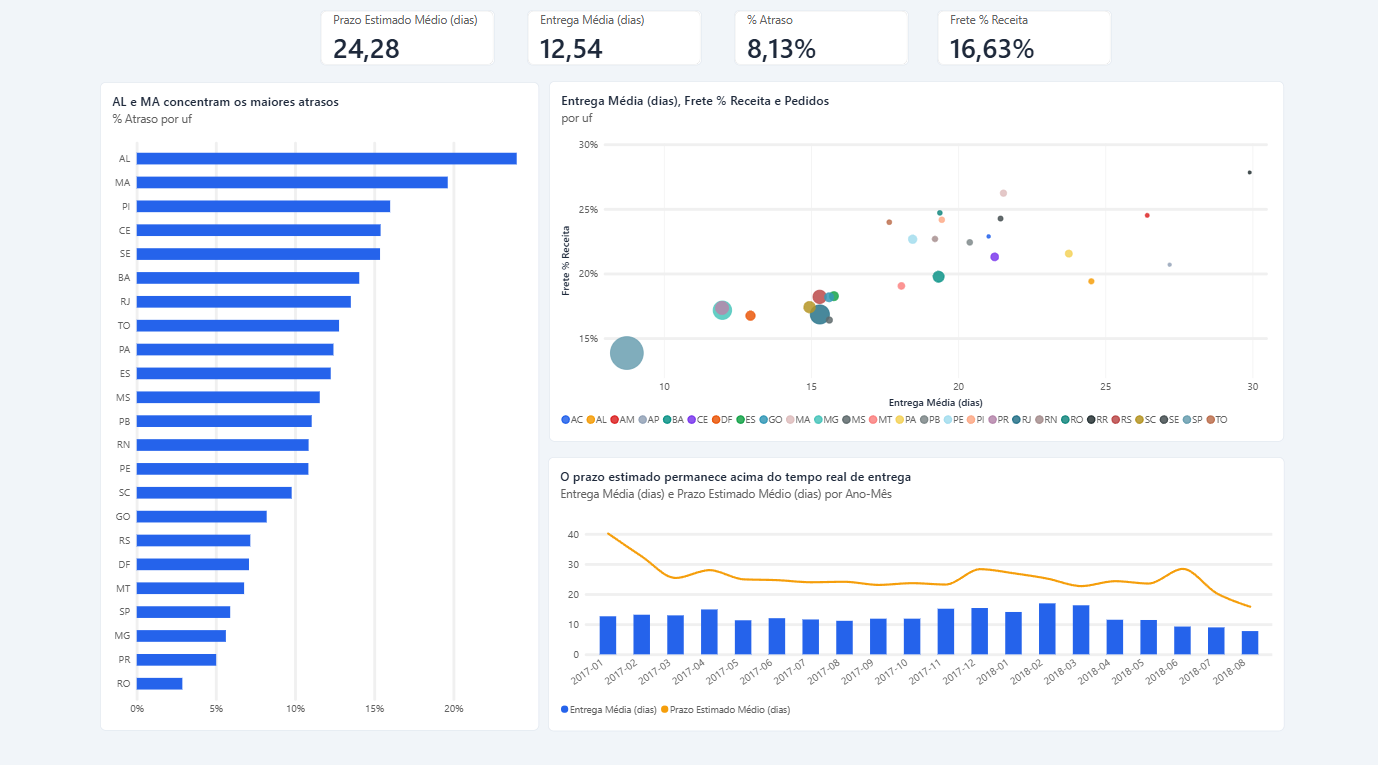

What the dashboard file says about the page in this screenshot:
{"tool":"powerbi","page":{"name":"LOGÍSTICA","canvas":[1920,1080],"ordinal":1},"visuals":[{"type":"cardVisual","fields":{"Data":["_Medidas.Entrega Média (dias)"]},"box":[735.7,22.9,242.9,77.1],"z":0},{"type":"cardVisual","fields":{"Data":["_Medidas.Prazo Médio"]},"box":[448.6,22.9,242.9,77.1],"z":1000},{"type":"cardVisual","fields":{"Data":["_Medidas.% Pedidos Atrasados"]},"box":[1024.3,22.9,242.9,77.1],"z":2000},{"type":"cardVisual","fields":{"Data":["_Medidas.Frete % Receita"]},"box":[1305.7,22.9,242.9,77.1],"z":3000},{"type":"barChart","title":"AL e MA concentram os maiores atrasos","fields":{"Category":["dim_uf.uf"],"Y":["_Medidas.% Pedidos Atrasados"]},"box":[142.9,122.9,610,901.4],"z":4000},{"type":"scatterChart","fields":{"Series":["dim_uf.uf"],"Size":["_Medidas.Pedidos"],"X":["_Medidas.Entrega Média (dias)"],"Y":["_Medidas.Frete % Receita"]},"box":[767.1,121.4,1021.4,501.4],"z":5000},{"type":"lineStackedColumnComboChart","title":"O prazo estimado permanece acima do tempo real de entrega","fields":{"Category":["dim_calendario.Ano-Mês"],"Y":["_Medidas.Entrega Média (dias)"],"Y2":["_Medidas.Prazo Estimado Médio (dias)"]},"box":[765.7,642.9,1022.9,381.4],"z":6000}]}

Visuals, with their boxes in screenshot pixels (x1, y1, x2, y2), scaled from the page's 1920x1080 canvas onto the 1378x765 screenshot:
cardVisual - _Medidas.Entrega Média (dias): l=528, t=16, r=702, b=71
cardVisual - _Medidas.Prazo Médio: l=322, t=16, r=496, b=71
cardVisual - _Medidas.% Pedidos Atrasados: l=735, t=16, r=909, b=71
cardVisual - _Medidas.Frete % Receita: l=937, t=16, r=1111, b=71
"AL e MA concentram os maiores atrasos" barChart: l=103, t=87, r=540, b=726
scatterChart - dim_uf.uf x _Medidas.Pedidos: l=551, t=86, r=1284, b=441
"O prazo estimado permanece acima do tempo real de entrega" lineStackedColumnComboChart: l=550, t=455, r=1284, b=726
